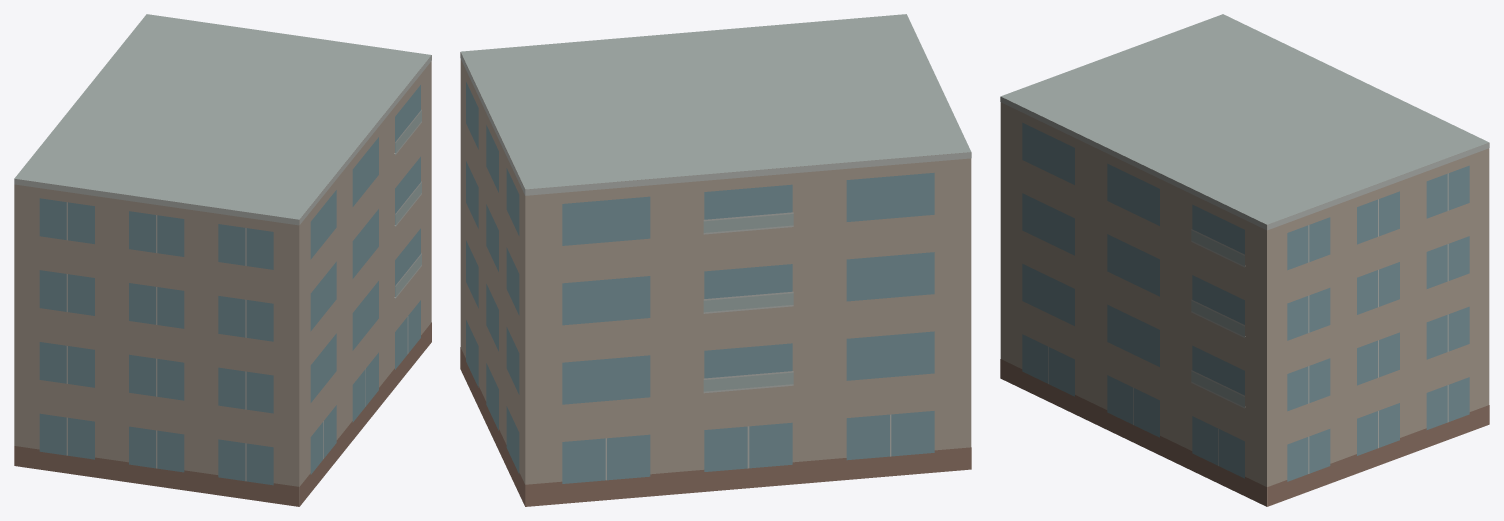
File: residential-2bf4be10-4719-4cf2-8158-9205fca161b9.glb
3 views of the same model, side by side, from view 1: azimuth 30°, elevation 25°; view 2: azimuth 150°, elevation 25°; view 3: azimuth 270°, elevation 25° (orthographic). The views are drawn at different scales.
Parts seen in each view (by area): view 1: residential-2bf4be10-4719-4cf2-8158-9205fca161b9.tmp; view 2: residential-2bf4be10-4719-4cf2-8158-9205fca161b9.tmp; view 3: residential-2bf4be10-4719-4cf2-8158-9205fca161b9.tmp.
Part boxes in pixels (x1,y1,x2,y2): residential-2bf4be10-4719-4cf2-8158-9205fca161b9.tmp: (14, 14, 431, 506); residential-2bf4be10-4719-4cf2-8158-9205fca161b9.tmp: (460, 14, 971, 506); residential-2bf4be10-4719-4cf2-8158-9205fca161b9.tmp: (1000, 14, 1489, 506).
Bounding box in the file's own units: 19.57 × 12.2 × 19.18.
